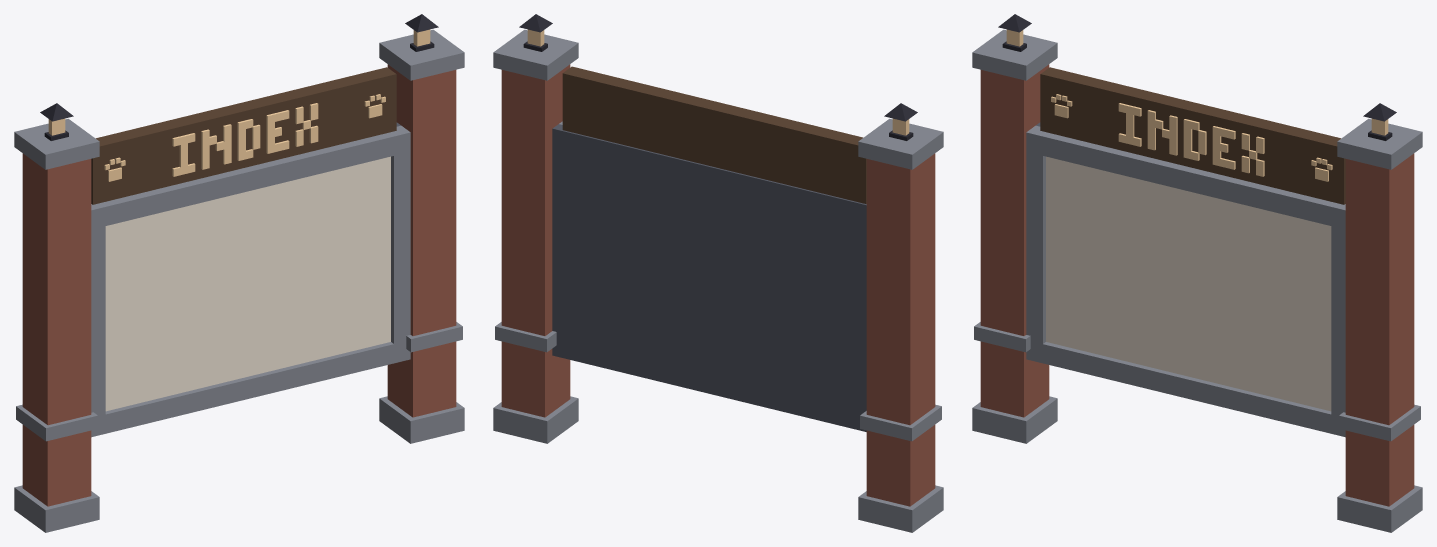
File: CatCafe_Alley_IndexBoard.fbx
The picture shows the model from 3 angles, left to right: view 1: azimuth 30°, elevation 25°; view 2: azimuth 150°, elevation 25°; view 3: azimuth 330°, elevation 25°; orthographic projection.
Visible parts, largest first — view 1: CatCafe_Alley_IndexBoard, CatCafe_Alley_IndexBoard_Screen; view 2: CatCafe_Alley_IndexBoard; view 3: CatCafe_Alley_IndexBoard, CatCafe_Alley_IndexBoard_Screen.
Part boxes in pixels (x1=…): CatCafe_Alley_IndexBoard: x1=14, y1=14, x2=464, y2=532; CatCafe_Alley_IndexBoard_Screen: x1=105, y1=156, x2=390, y2=411; CatCafe_Alley_IndexBoard: x1=493, y1=14, x2=943, y2=532; CatCafe_Alley_IndexBoard: x1=972, y1=14, x2=1422, y2=532; CatCafe_Alley_IndexBoard_Screen: x1=1046, y1=156, x2=1331, y2=411.
Bounding box in the file's own units: 11.6 × 10.89 × 1.5.
1 material, 1 textured.
